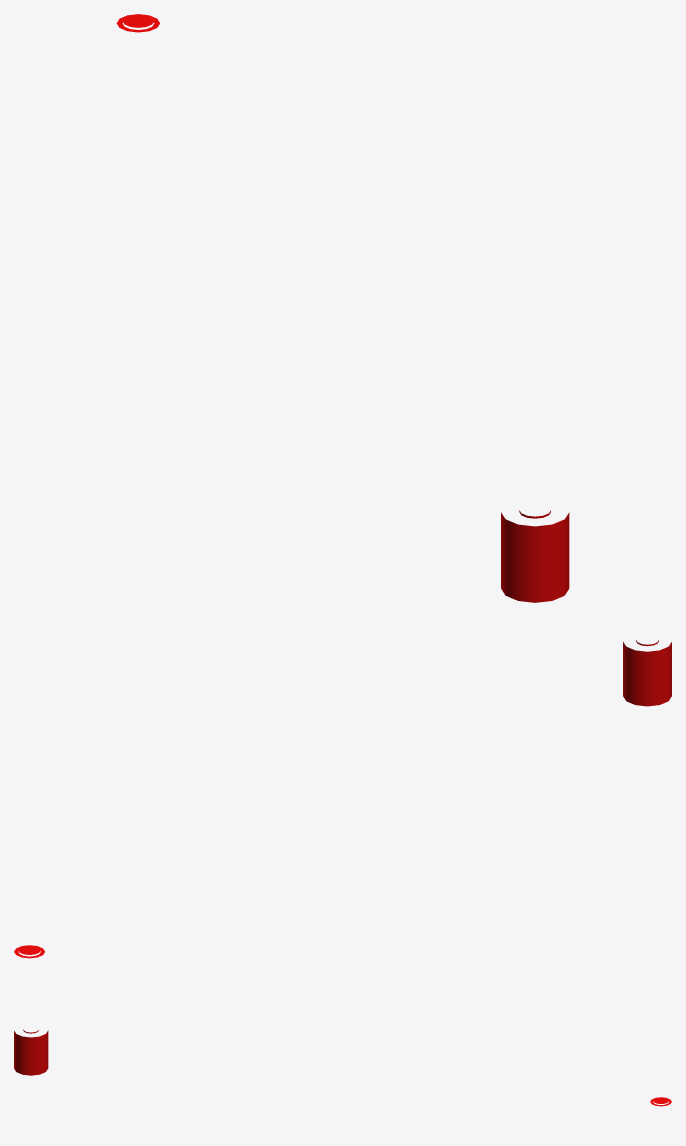
3 views of the same model, one above another, from view 1: azimuth 30°, elevation 25°; view 2: azimuth 150°, elevation 25°; view 3: azimuth 270°, elevation 25° (orthographic). The views are drawn at different scales.
Visible parts, largest first — view 1: 272; view 2: 272; view 3: 272.
Boxes of the visible parts, <box> form: 272: <box>501,510,569,602</box>; 272: <box>623,640,671,706</box>; 272: <box>14,1029,48,1075</box>.
Size of the model in its own units: 7.01 by 1.96 by 28.34.
